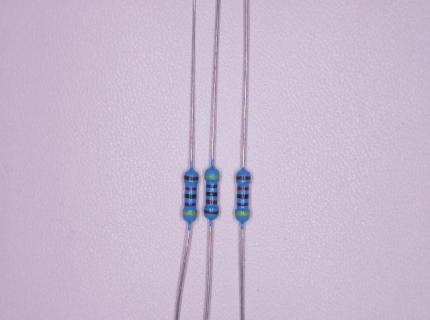Black band: (237, 194, 249, 199), (185, 194, 197, 199), (185, 202, 196, 207), (206, 192, 218, 196)
Brown band: (184, 175, 198, 181), (236, 176, 251, 181), (204, 210, 219, 215)
Red band: (206, 199, 218, 205), (237, 186, 249, 191), (185, 187, 197, 191)
Violet band: (236, 202, 248, 207), (206, 184, 217, 188)
Yellow band: (204, 174, 220, 179), (182, 211, 197, 216), (235, 211, 250, 216)
